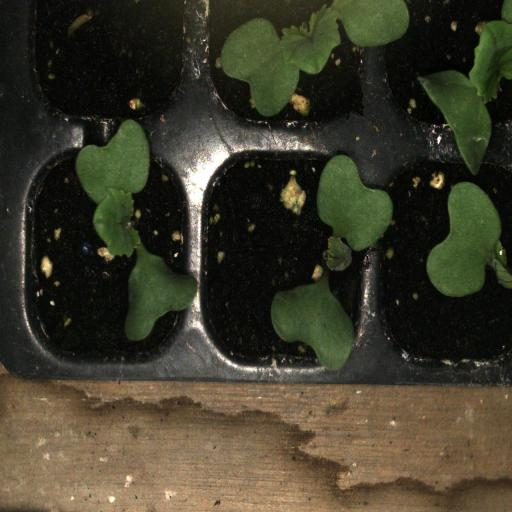Folha: (317, 154, 393, 270), (271, 278, 356, 372)
Germinacao: (191, 134, 375, 372), (18, 135, 189, 366), (192, 0, 370, 136), (375, 0, 512, 130)
